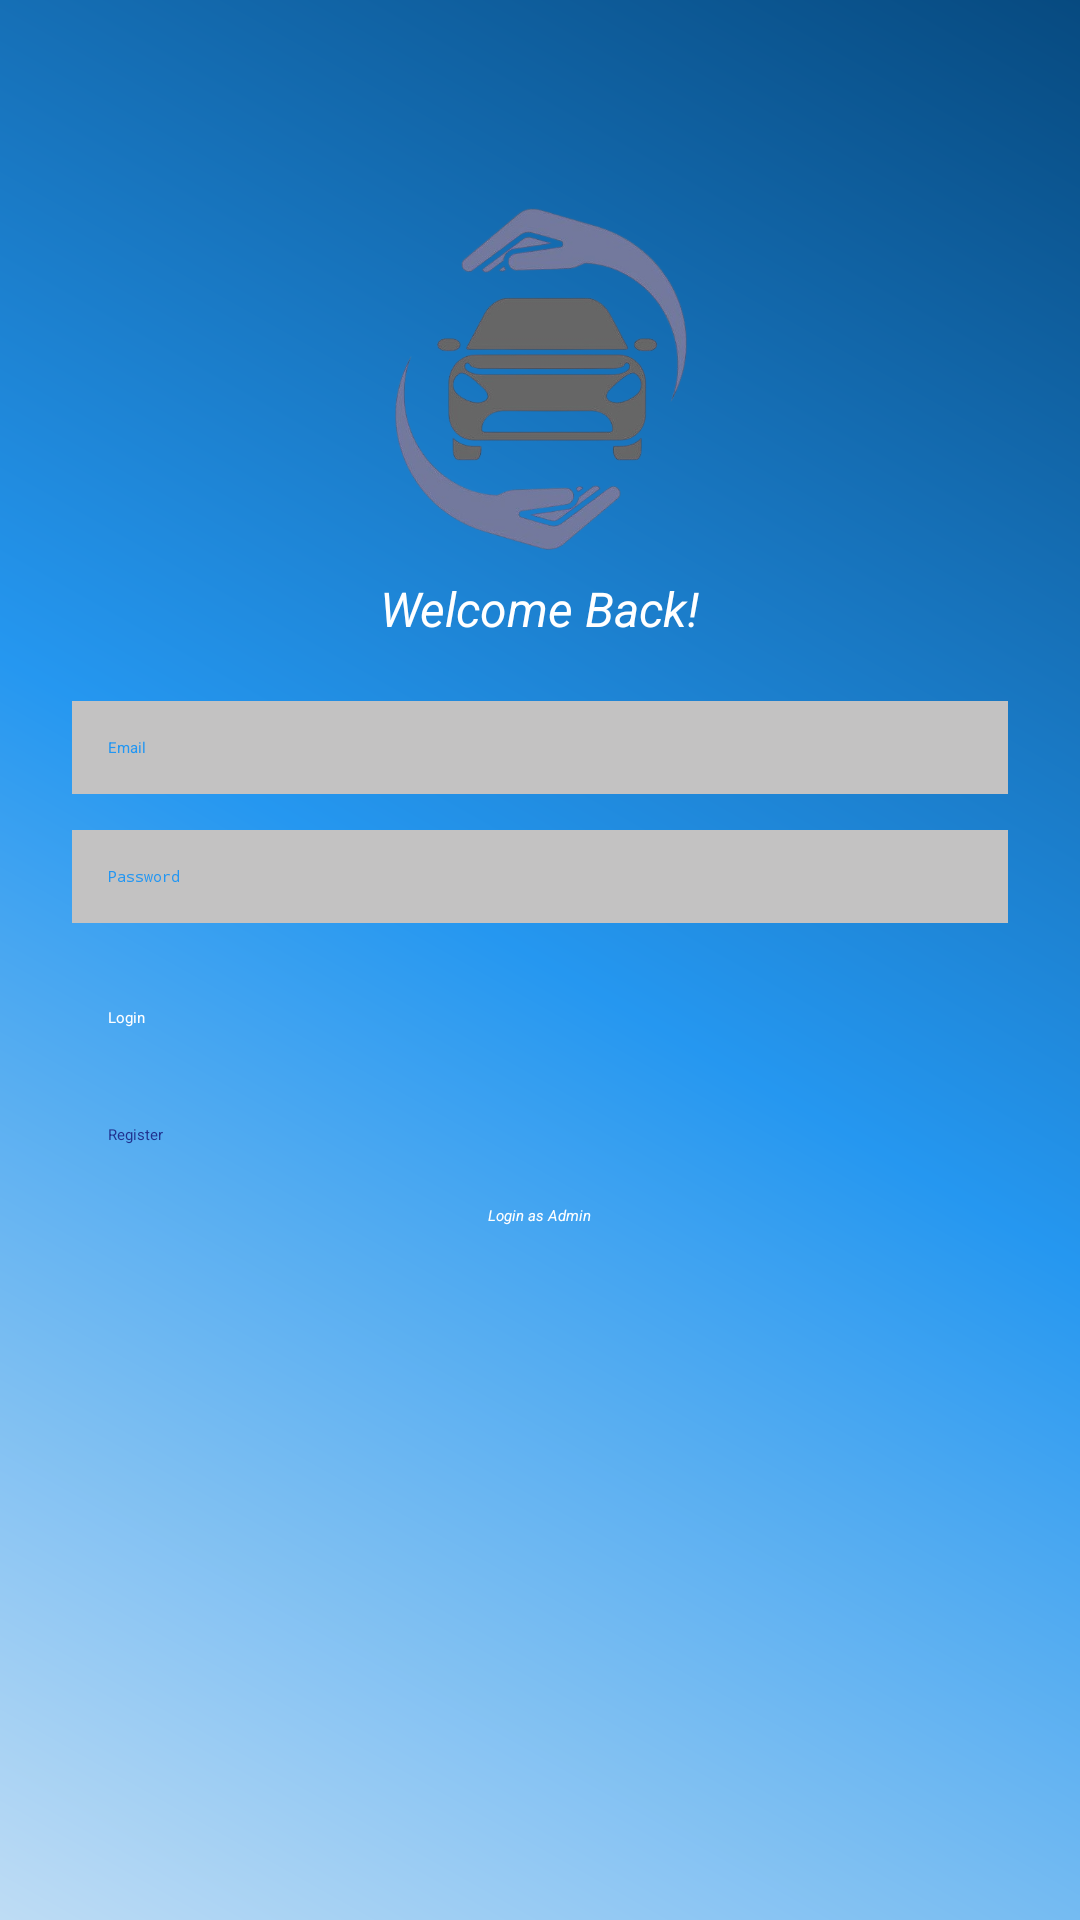

Screen size 1080 × 1920. Icon name, then its center in pixels as point (x, y):
App Icon: point (540, 372)
